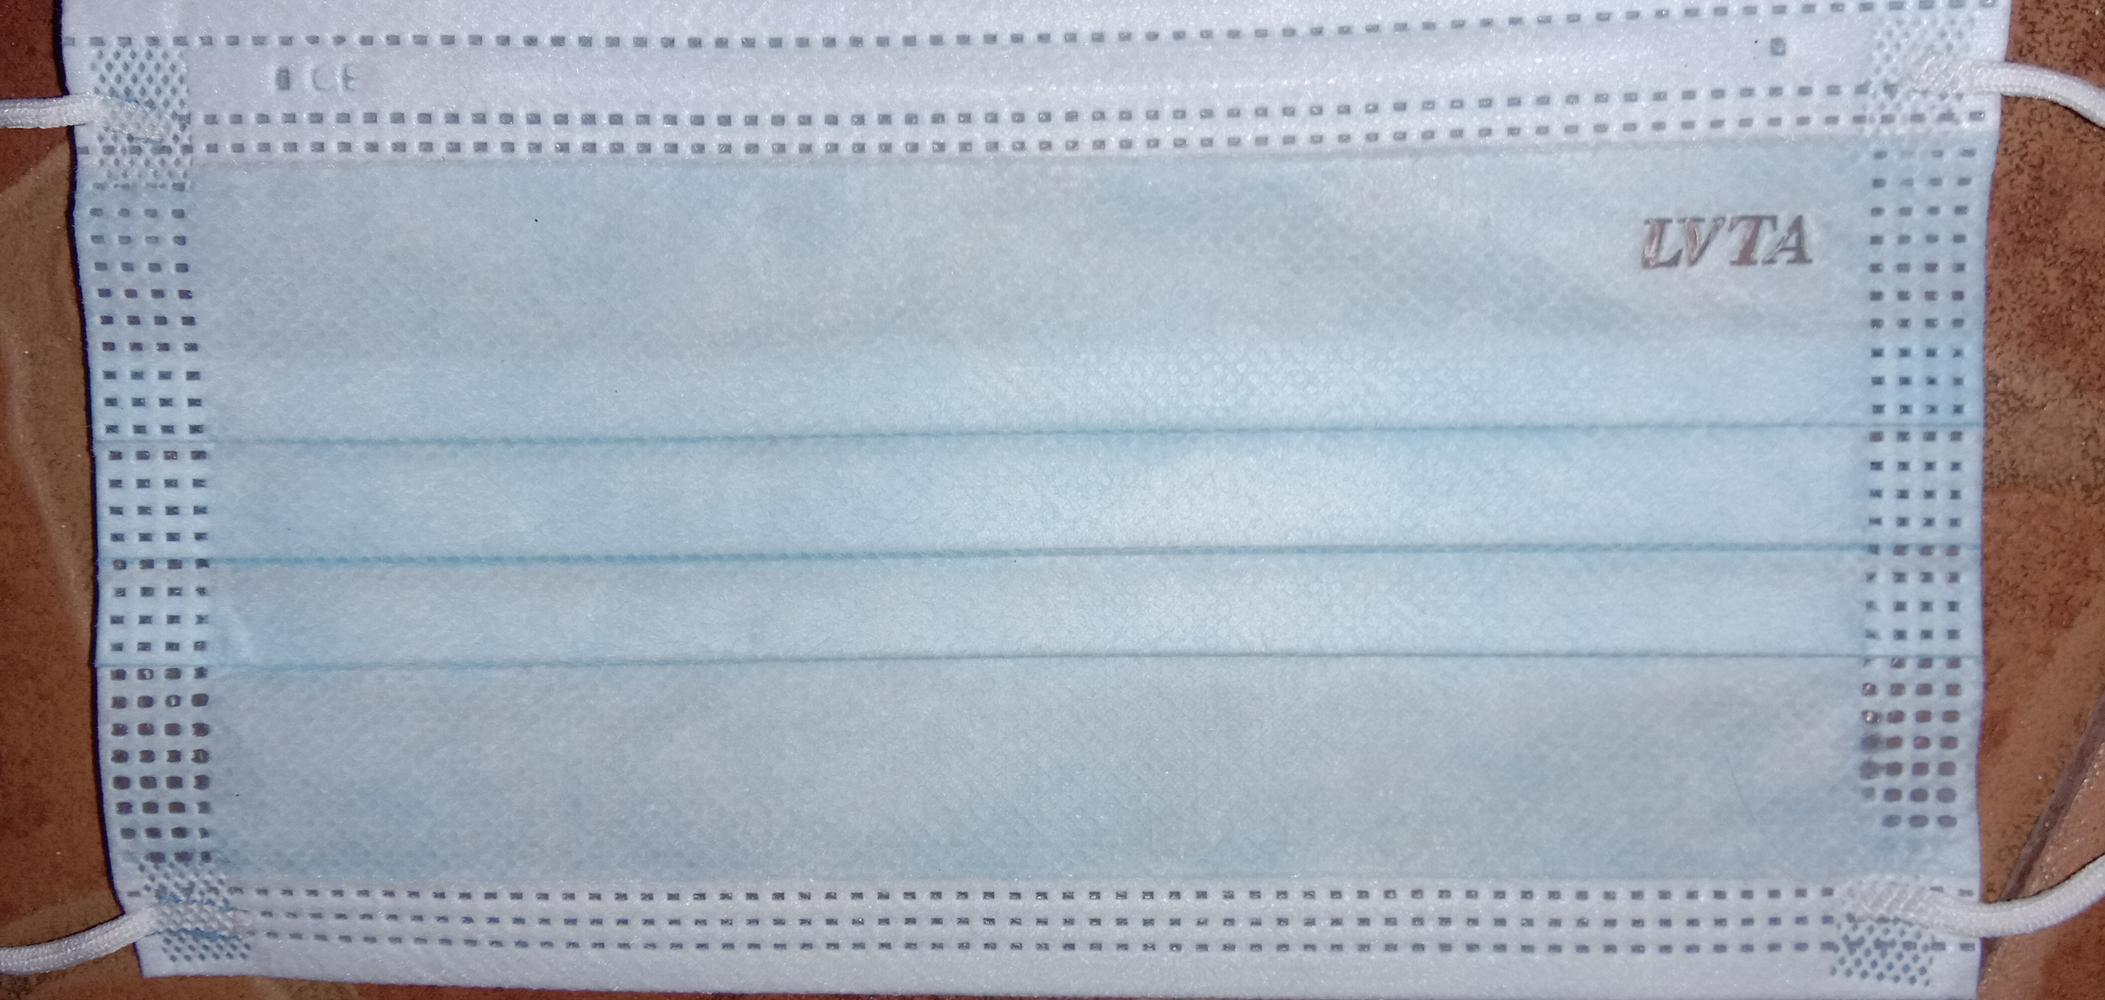Face Mask: (84, 4, 1975, 986)
